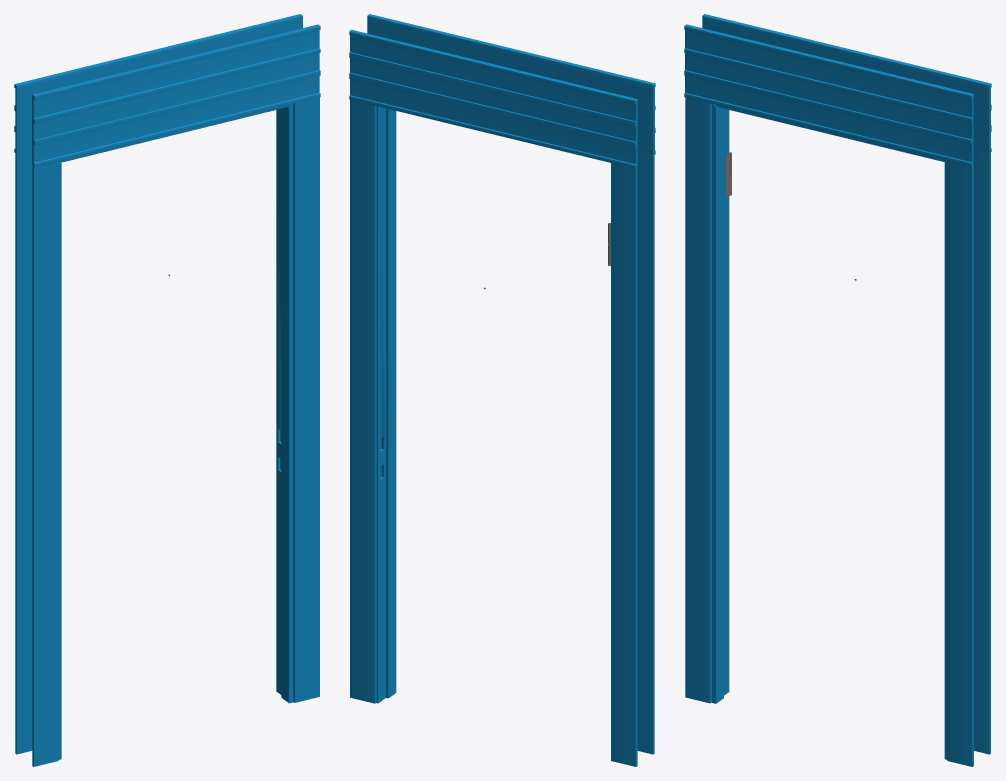
The model's file is marcoPuerta.obj.
3 views of the same model, side by side, from view 1: azimuth 30°, elevation 25°; view 2: azimuth 150°, elevation 25°; view 3: azimuth 330°, elevation 25° (orthographic).
Visible parts, largest first — view 1: pasted__pasted__pasted__polySurface484 pasted__pasted__group56 p; view 2: pasted__pasted__pasted__polySurface484 pasted__pasted__group56 p; view 3: pasted__pasted__pasted__polySurface484 pasted__pasted__group56 p.
Boxes of the visible parts, x1=… form: pasted__pasted__pasted__polySurface484 pasted__pasted__group56 p: x1=14, y1=14, x2=320, y2=766; pasted__pasted__pasted__polySurface484 pasted__pasted__group56 p: x1=349, y1=14, x2=655, y2=766; pasted__pasted__pasted__polySurface484 pasted__pasted__group56 p: x1=684, y1=14, x2=991, y2=766.
Bounding box in the file's own units: 2.76 × 6.19 × 0.347.
2 materials, 1 textured.
